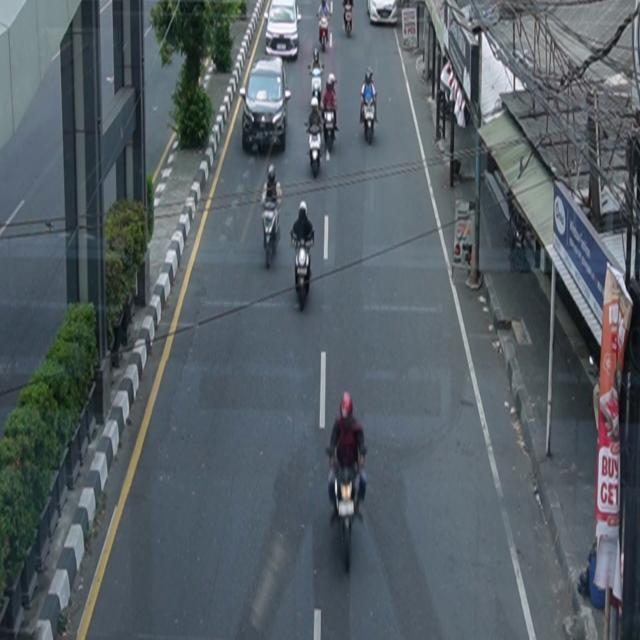car: (240, 57, 292, 154), (265, 1, 302, 61)
